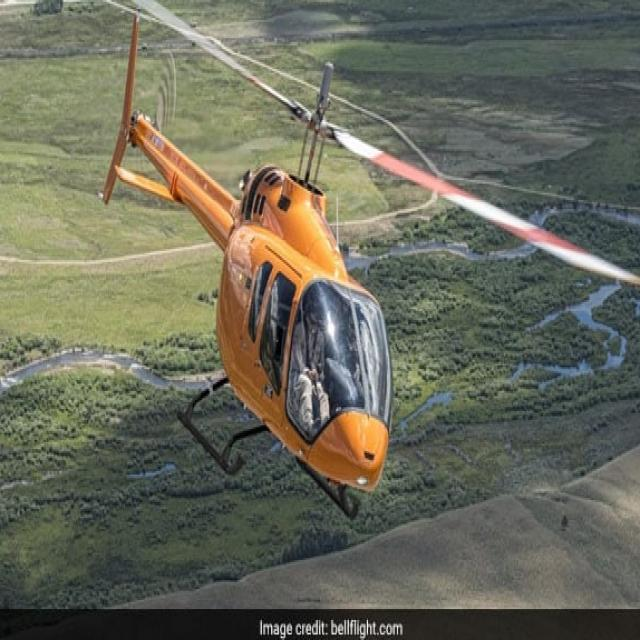helicopter: (97, 46, 640, 521)
